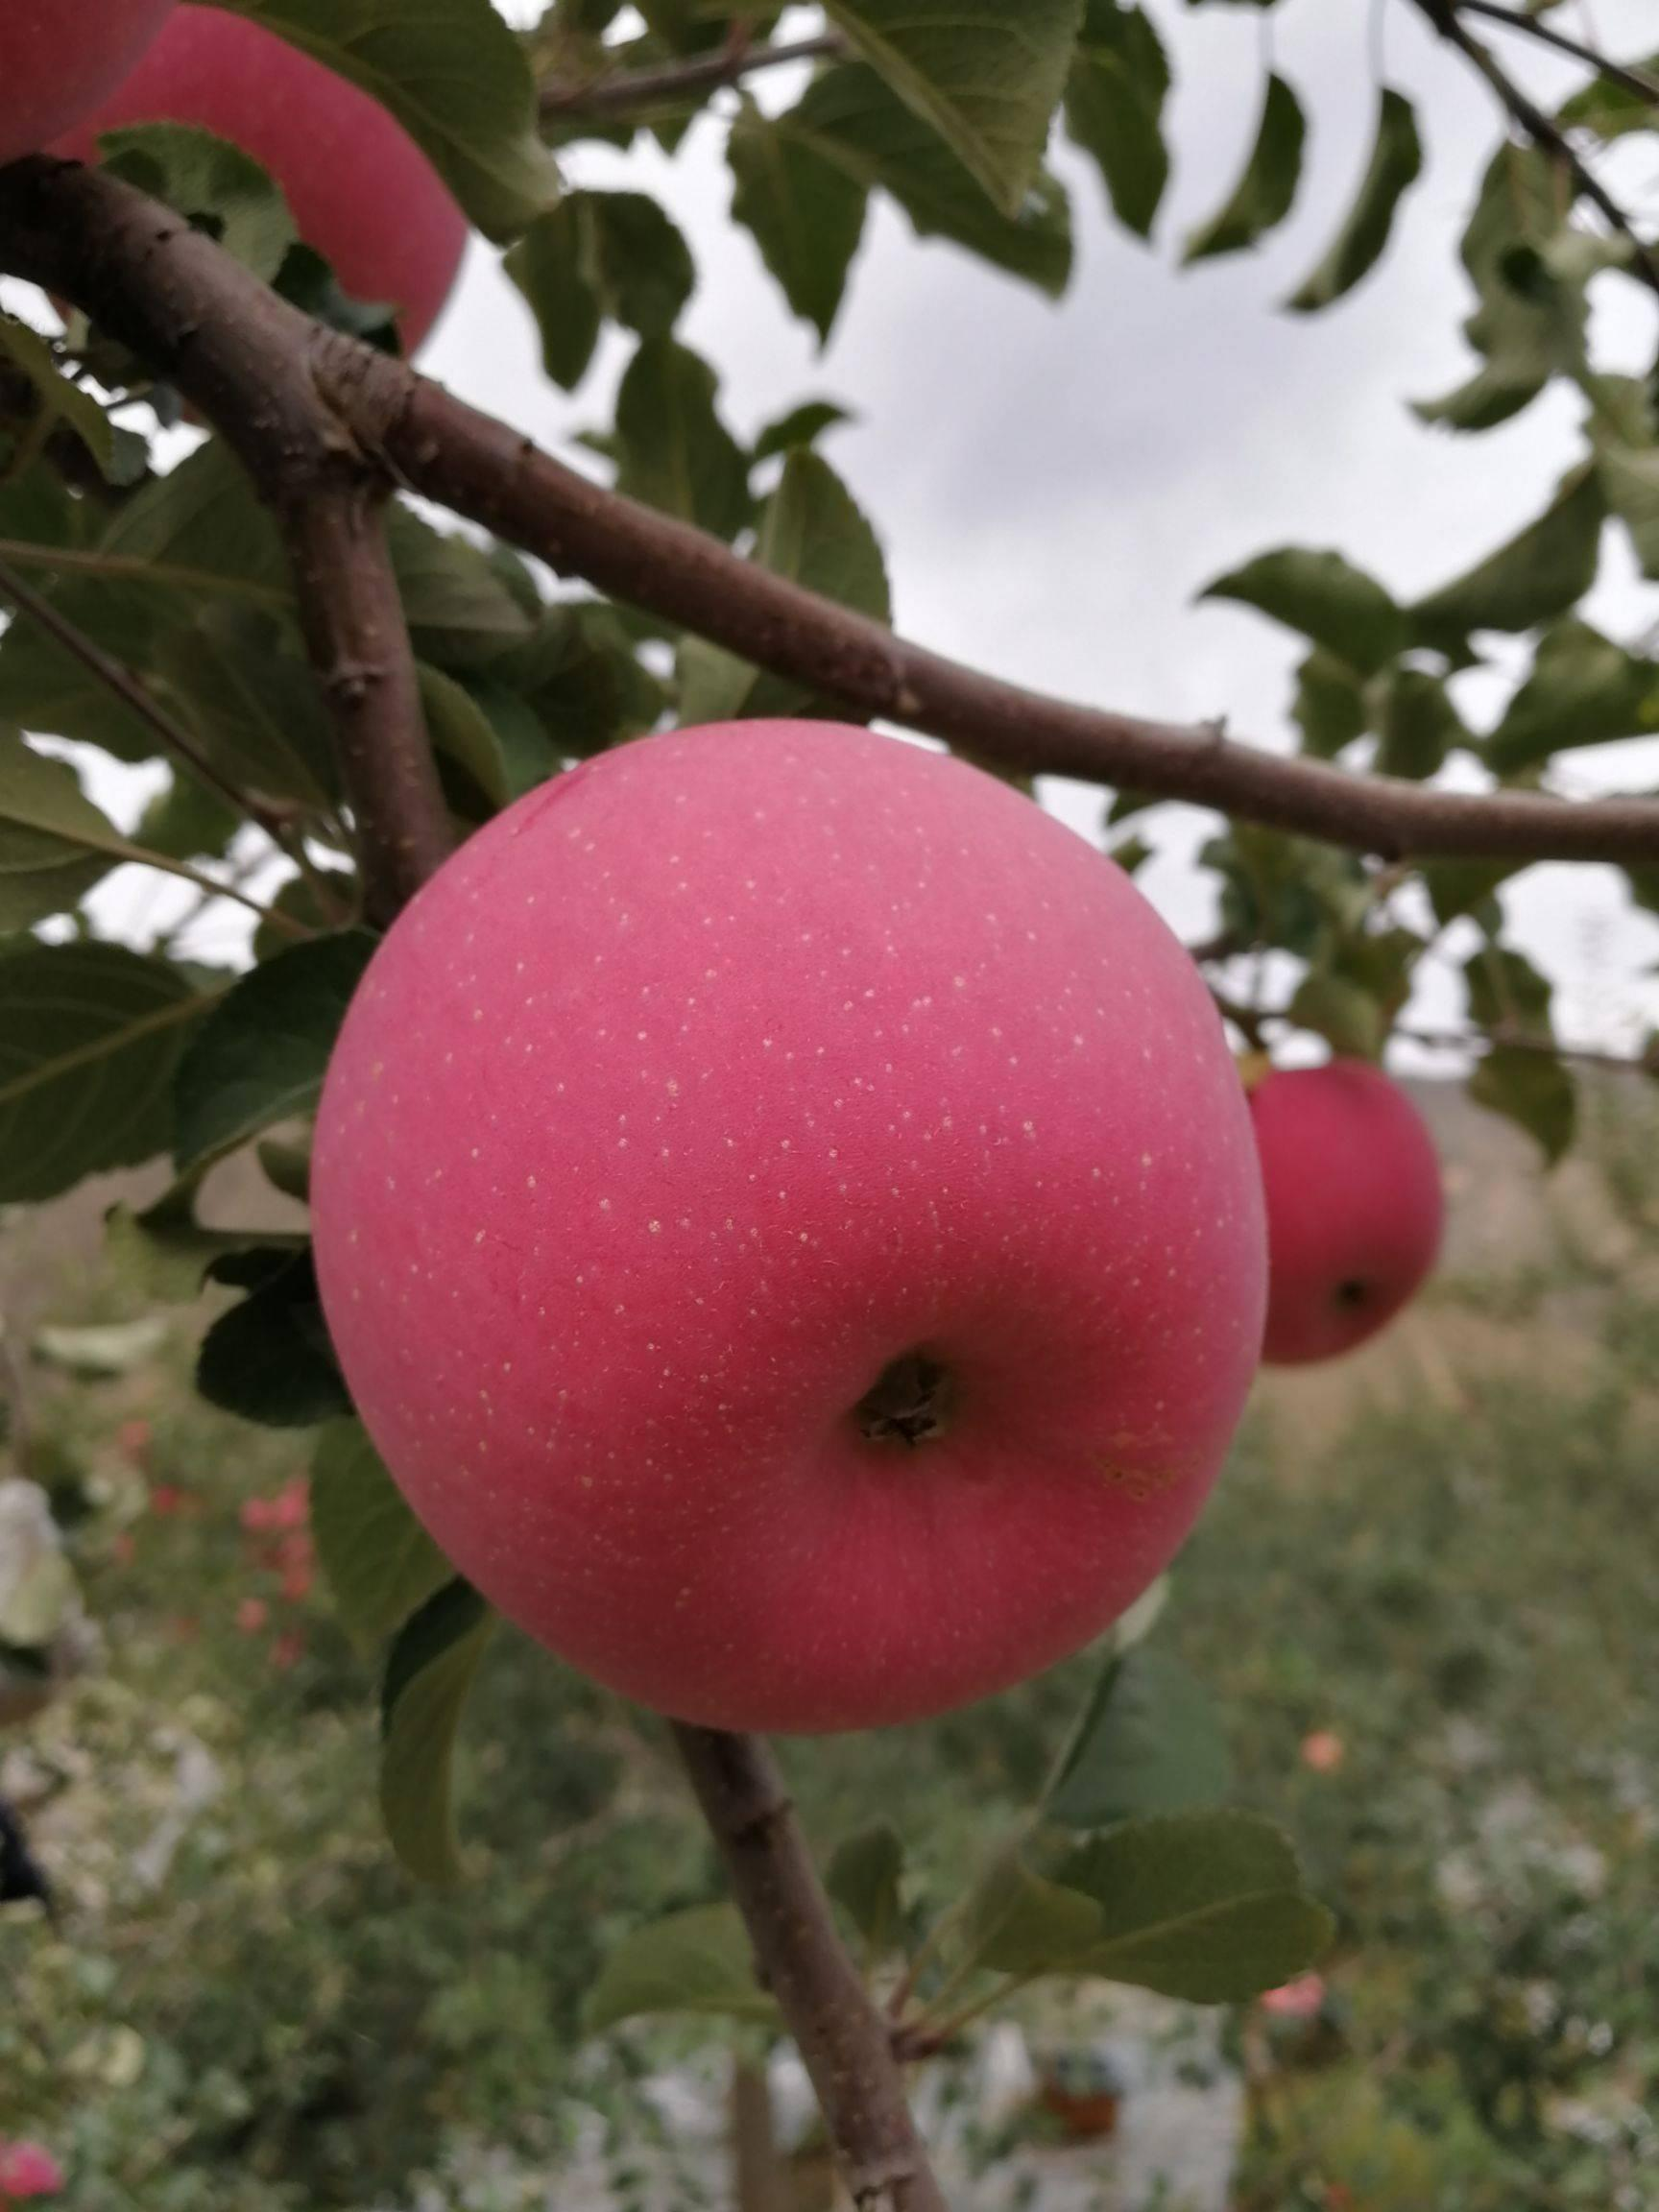apple: (307, 711, 1279, 1730)
